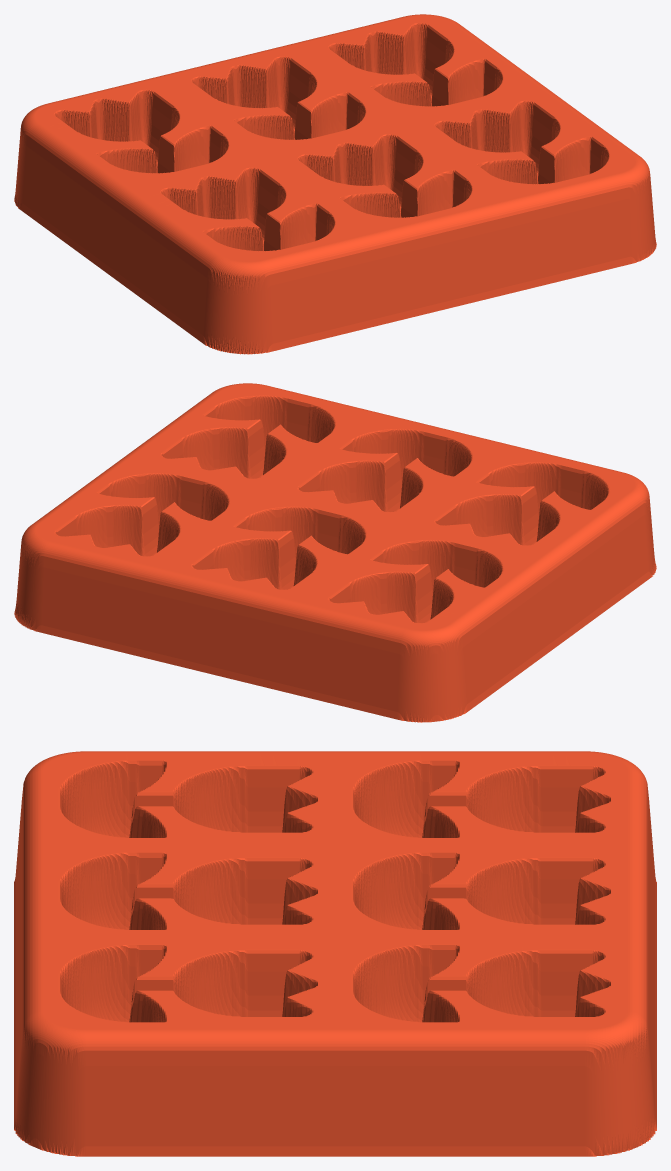
Rendered from mold.glb.
3 renders of one model, top to bottom at view 1: azimuth 30°, elevation 25°; view 2: azimuth 150°, elevation 25°; view 3: azimuth 270°, elevation 25°, orthographic. The views are drawn at different scales.
Parts seen in each view (by area): view 1: geometry_0; view 2: geometry_0; view 3: geometry_0.
Boxes of the visible parts, x1,y1,x2,y2 form: geometry_0: (14, 14, 656, 354); geometry_0: (14, 383, 656, 722); geometry_0: (14, 751, 656, 1156).
Bounding box in the file's own units: 0.0894 × 0.0159 × 0.0808.
